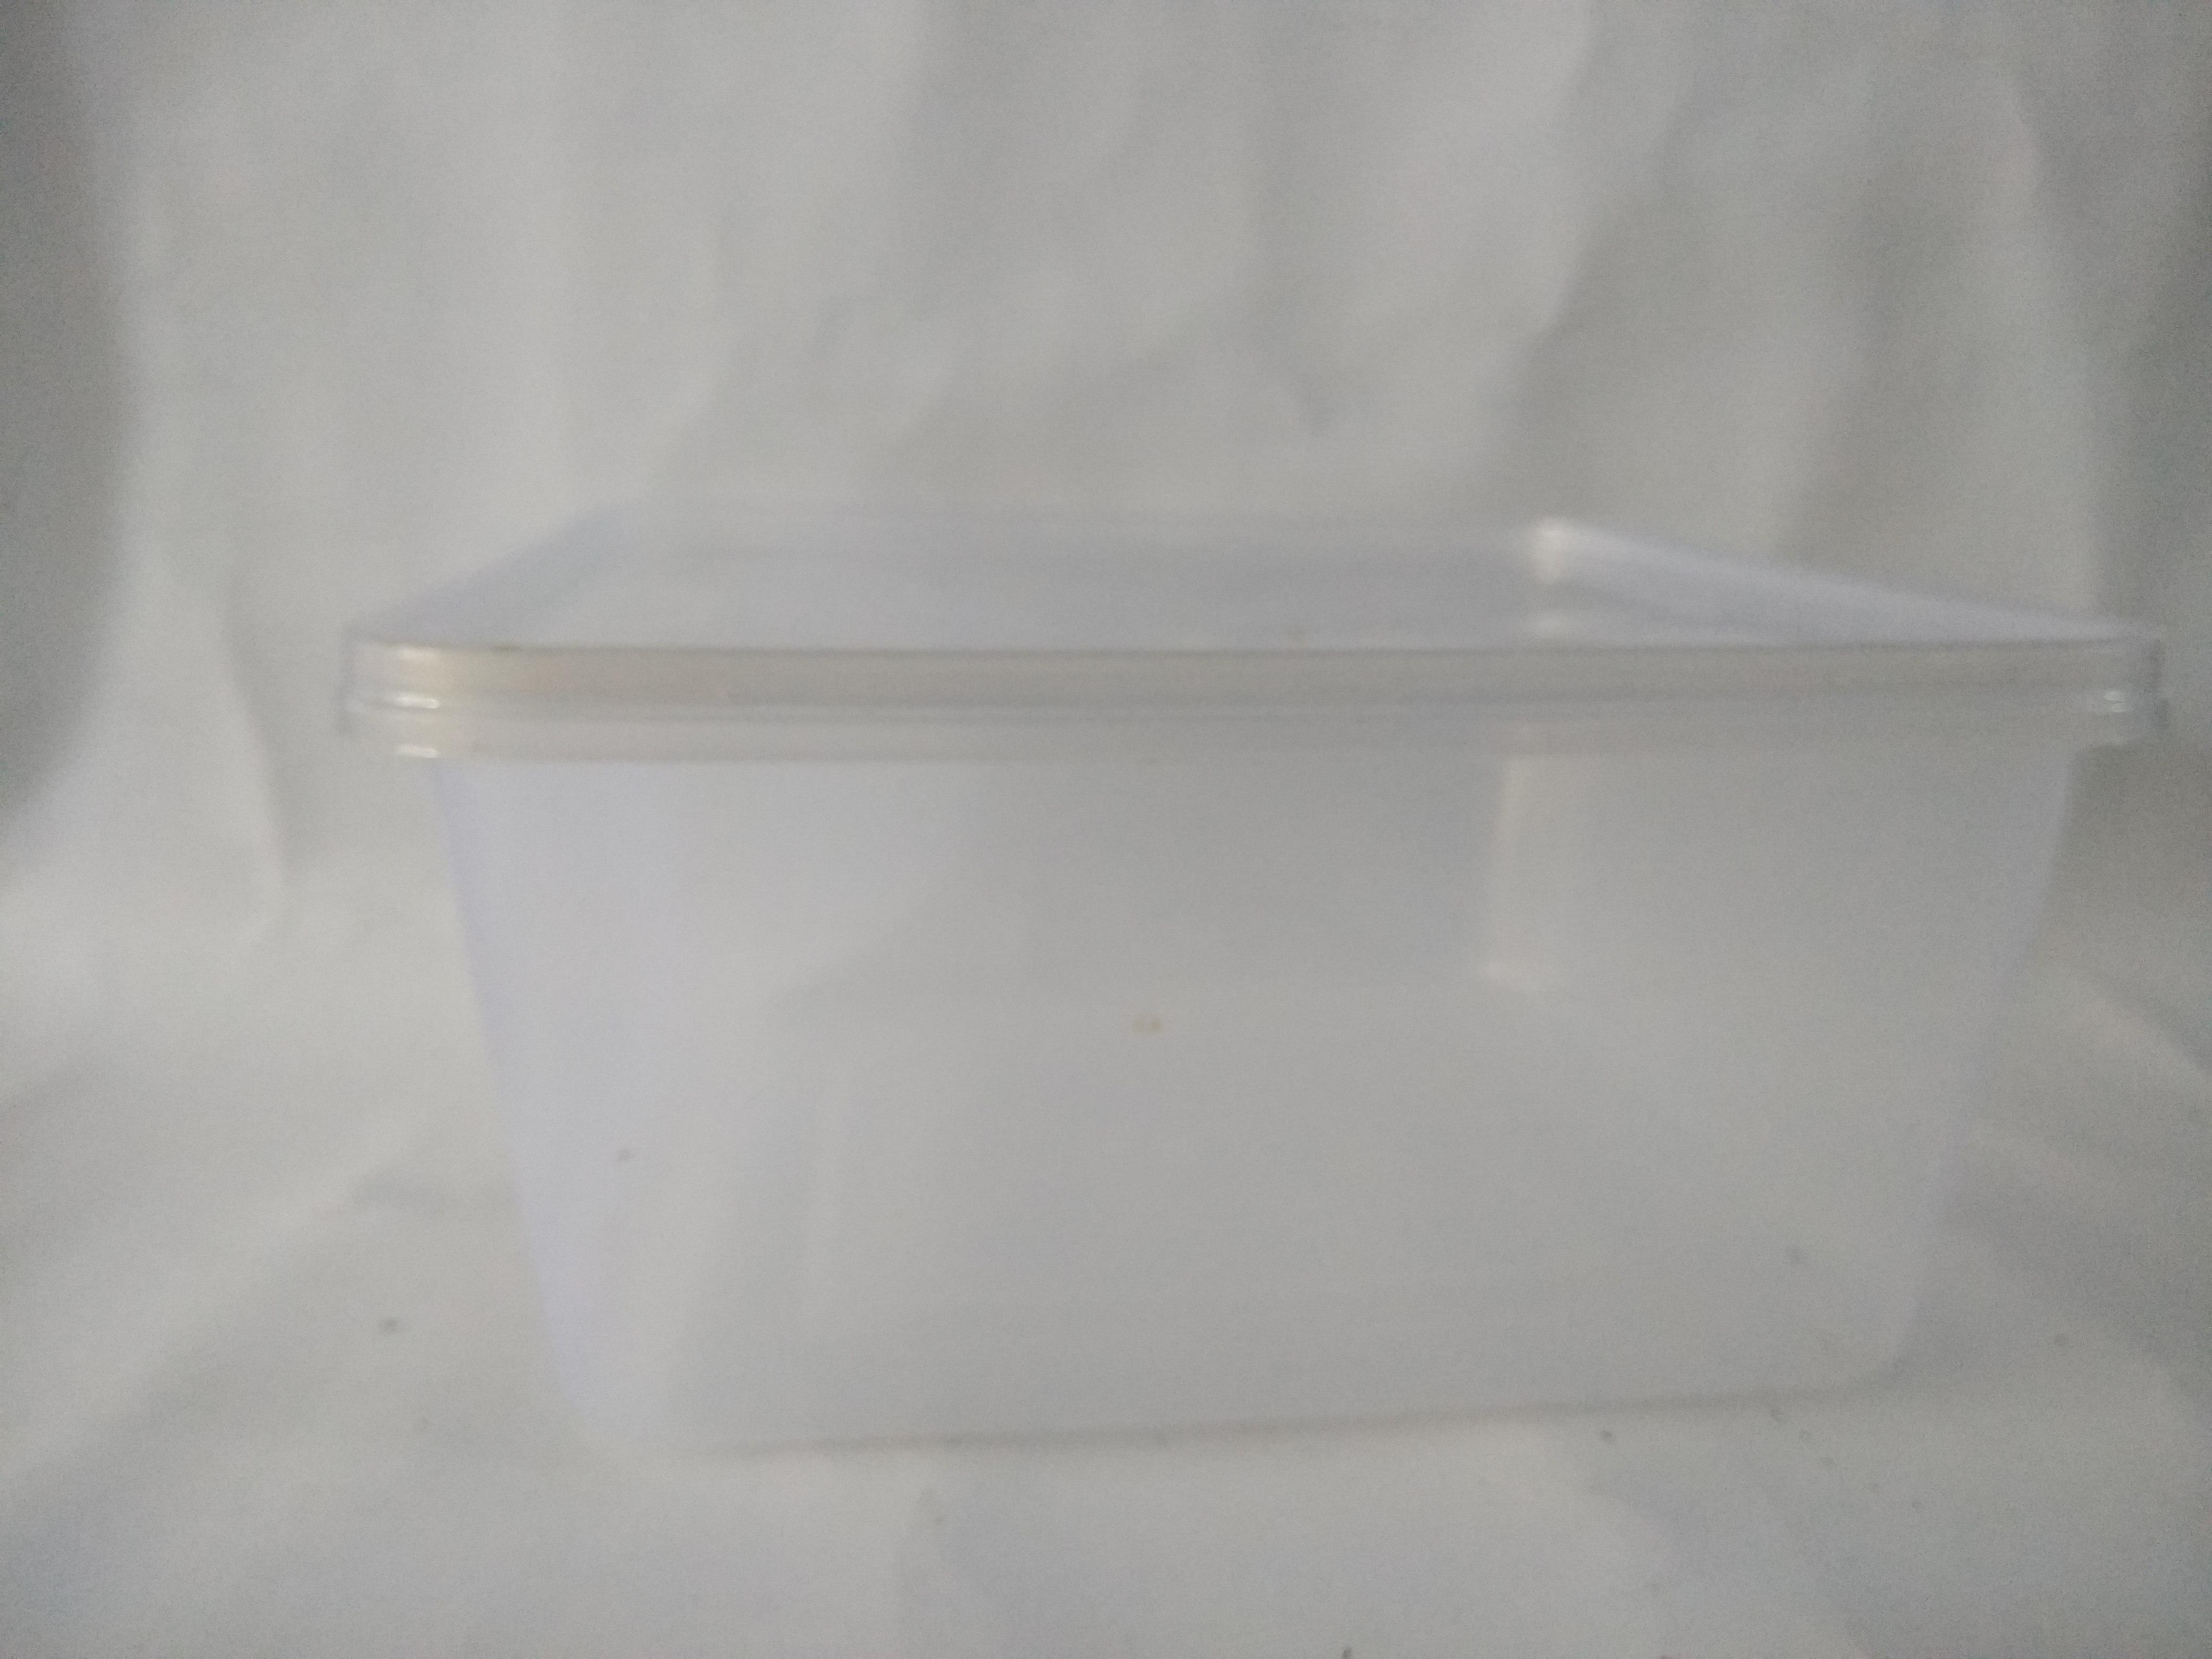PP: (108, 66, 2212, 1659)
